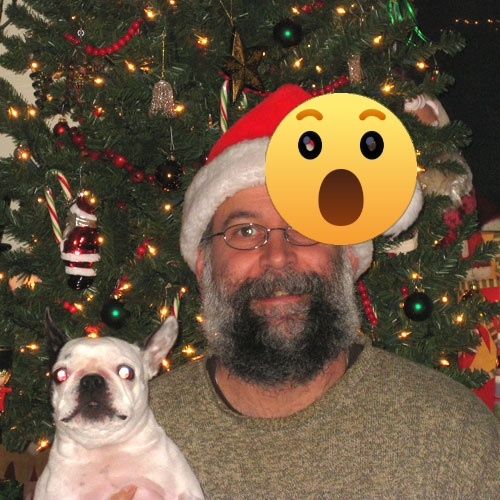wow: (265, 93, 417, 245)
